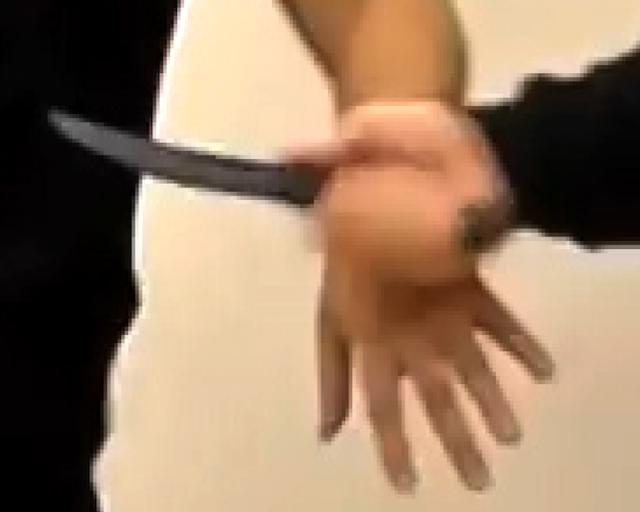long knife: (31, 94, 402, 238)
